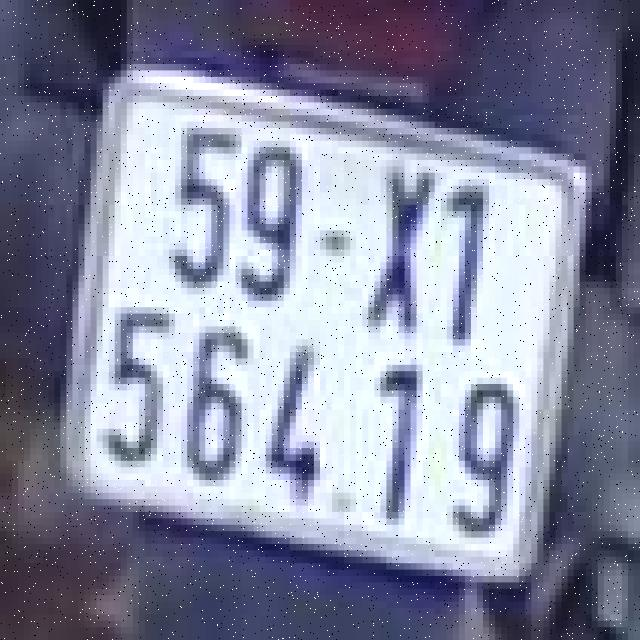1: (368, 349, 417, 515)
4: (260, 317, 332, 496)
5: (94, 298, 172, 477), (169, 125, 248, 298)
6: (181, 323, 248, 490)
9: (423, 346, 525, 531), (235, 132, 308, 310)
X: (359, 160, 438, 346), (441, 160, 501, 358)
